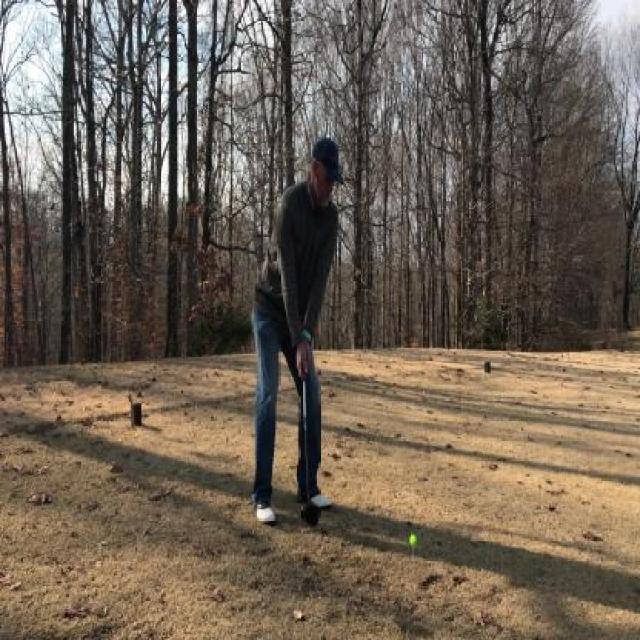club head: (298, 495, 320, 528)
